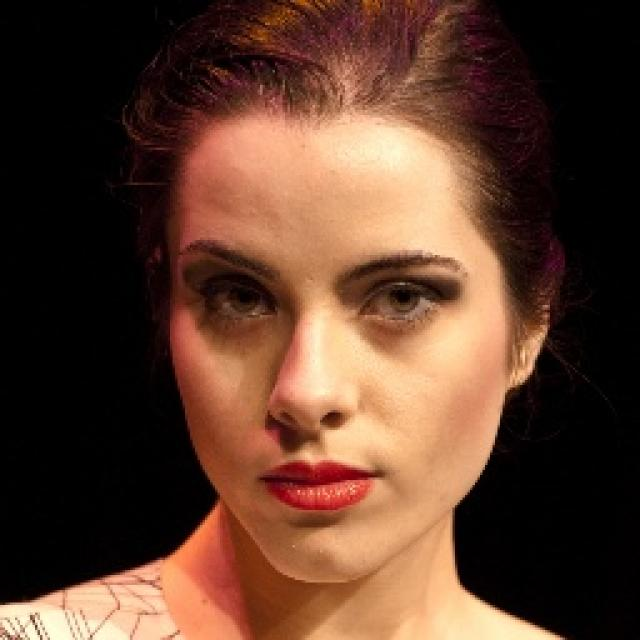earlobe: (510, 356, 539, 392)
eye: (197, 276, 278, 328), (362, 283, 444, 326)
nose: (267, 418, 359, 451)
wholeear: (506, 236, 566, 392)
